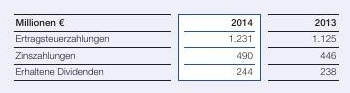table: (0, 0, 350, 93)
